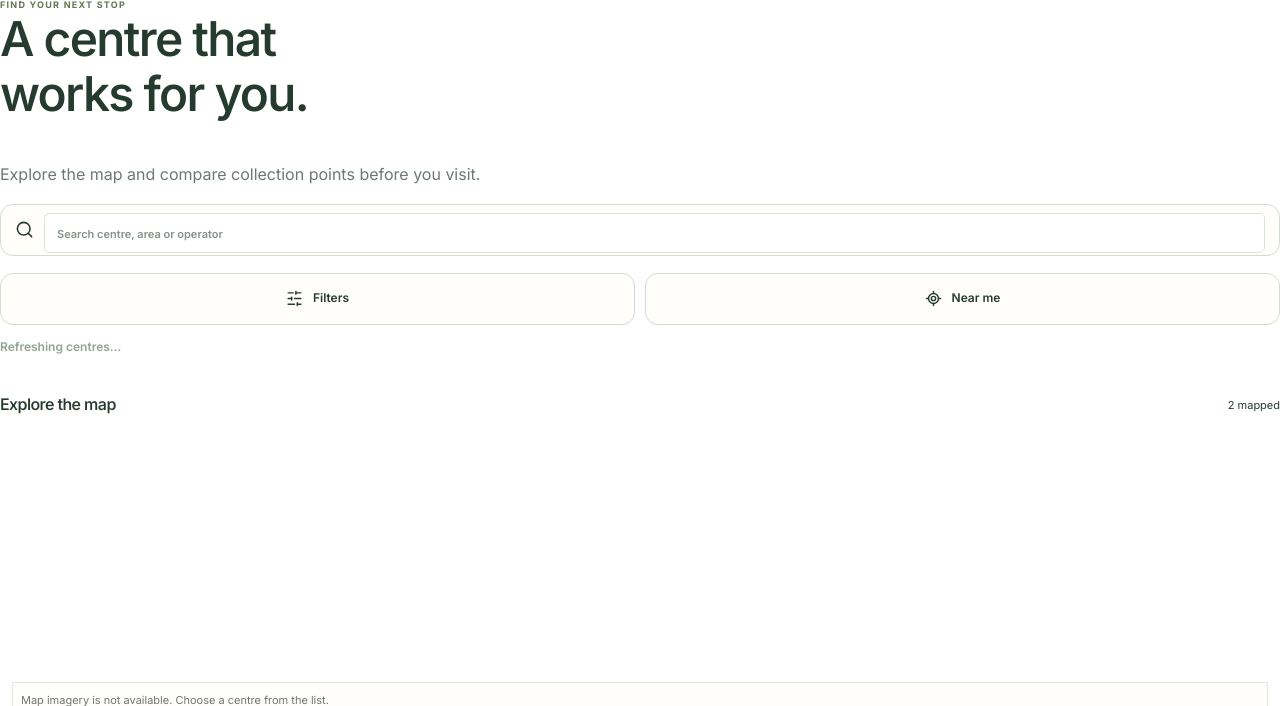
it: uses the host location only after a request and enables distance filters
Click the button "Filters". click: (318, 299)
box: [0,273,635,325]
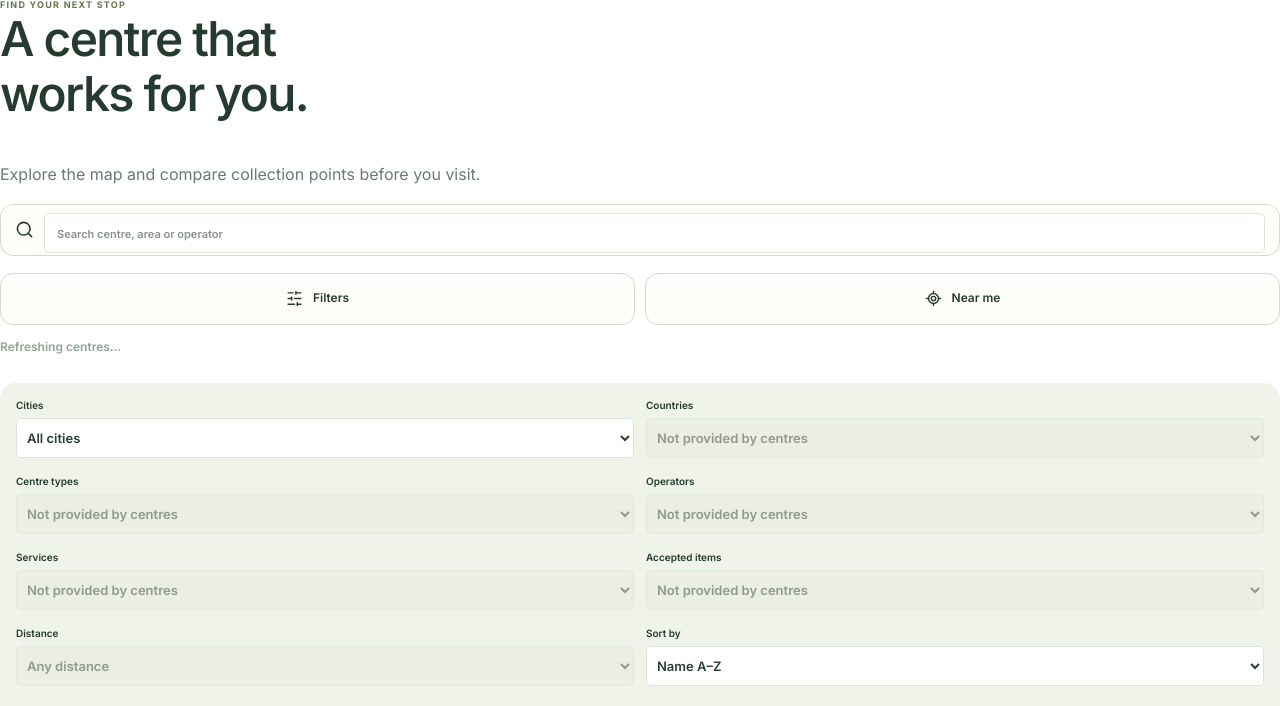
Result: the dropdown labelled "Distance" is disabled at [16,646,634,686]
Click the button "Near me". click: (962, 299)
box: [645,273,1279,325]
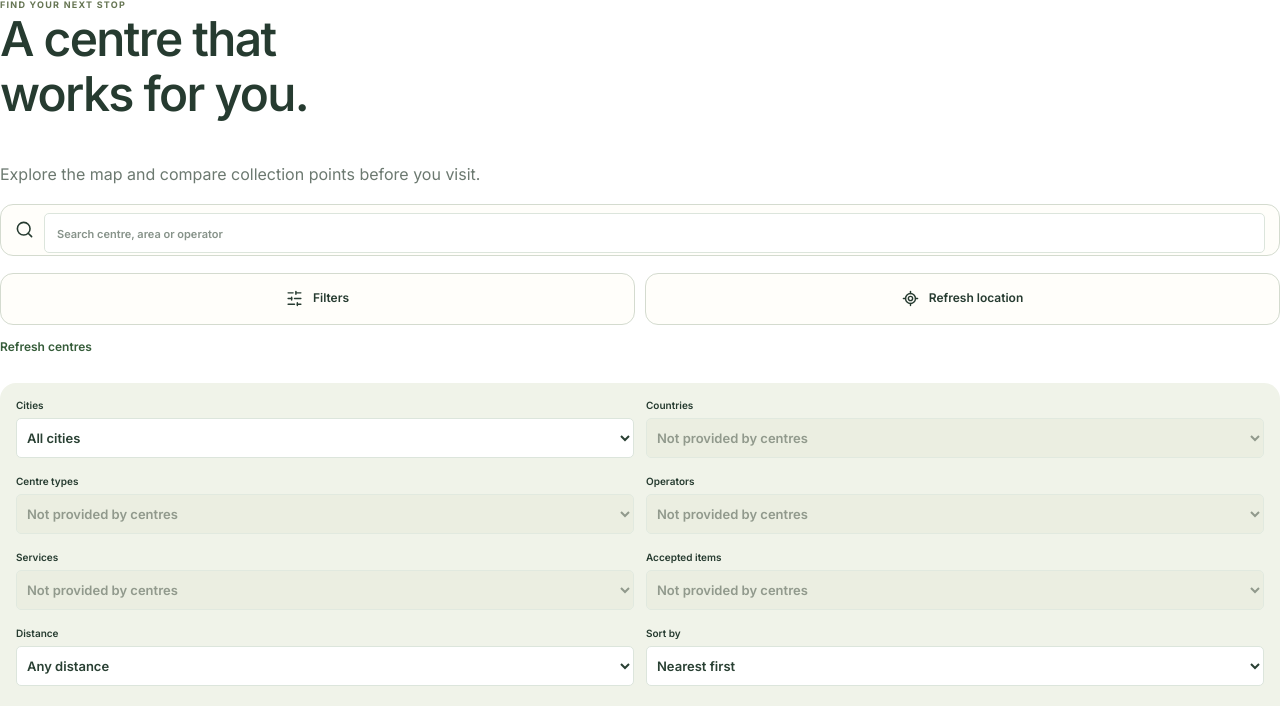
Result: the dropdown labelled "Distance" is enabled
Result: the dropdown labelled "Sort by" shows "Nearest first" at [646,646,1264,686]
Select "Within 5 km" in the dropdown labelled "Distance". click: (325, 666)
box: [16,646,634,686]
(page scrolled)
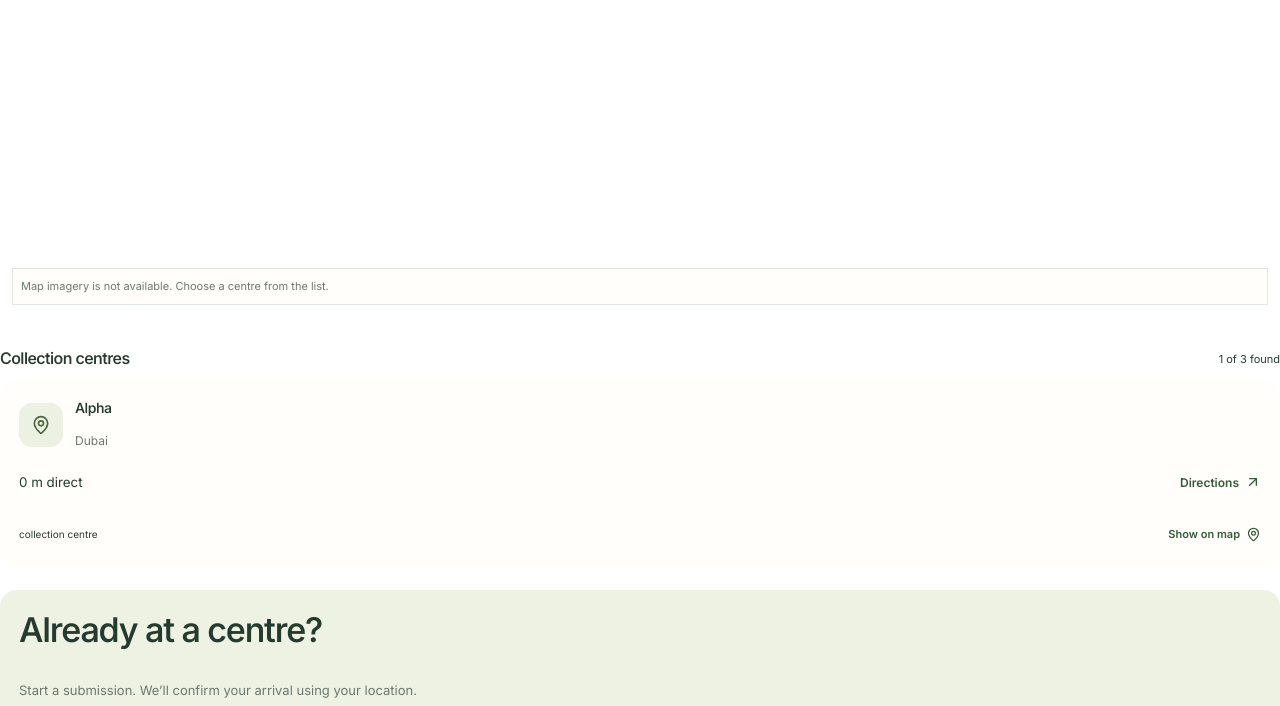
Result: the text "1 of 3 found" is shown at [1219,352,1279,366]
